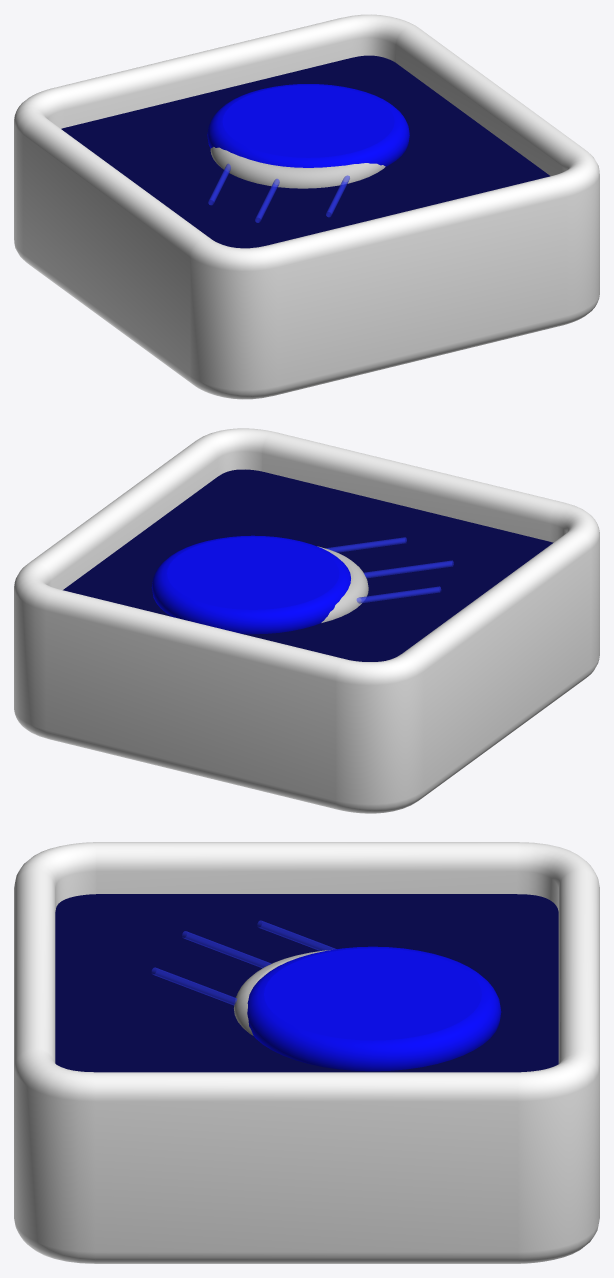
File: Bonus-BallSpeed.dae
3 views of the same model, one above another, from view 1: azimuth 30°, elevation 25°; view 2: azimuth 150°, elevation 25°; view 3: azimuth 270°, elevation 25° (orthographic). The views are drawn at different scales.
Parts seen in each view (by area): view 1: Bonus; view 2: Bonus; view 3: Bonus.
Part boxes in pixels (x1,y1,x2,y2): Bonus: (14, 14, 599, 399); Bonus: (14, 428, 599, 813); Bonus: (14, 842, 599, 1263).
Bounding box in the file's own units: 0.1517 × 0.0537 × 0.1517.
